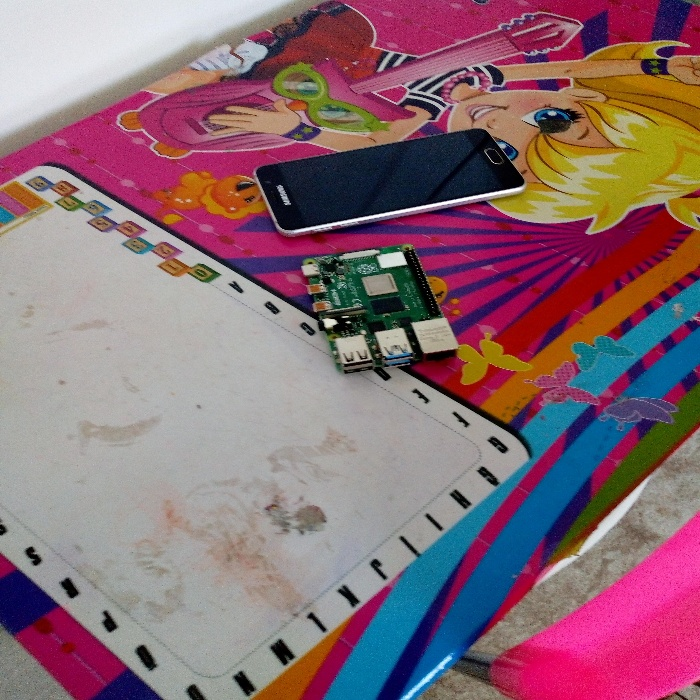raspberry: (297, 235, 467, 387)
